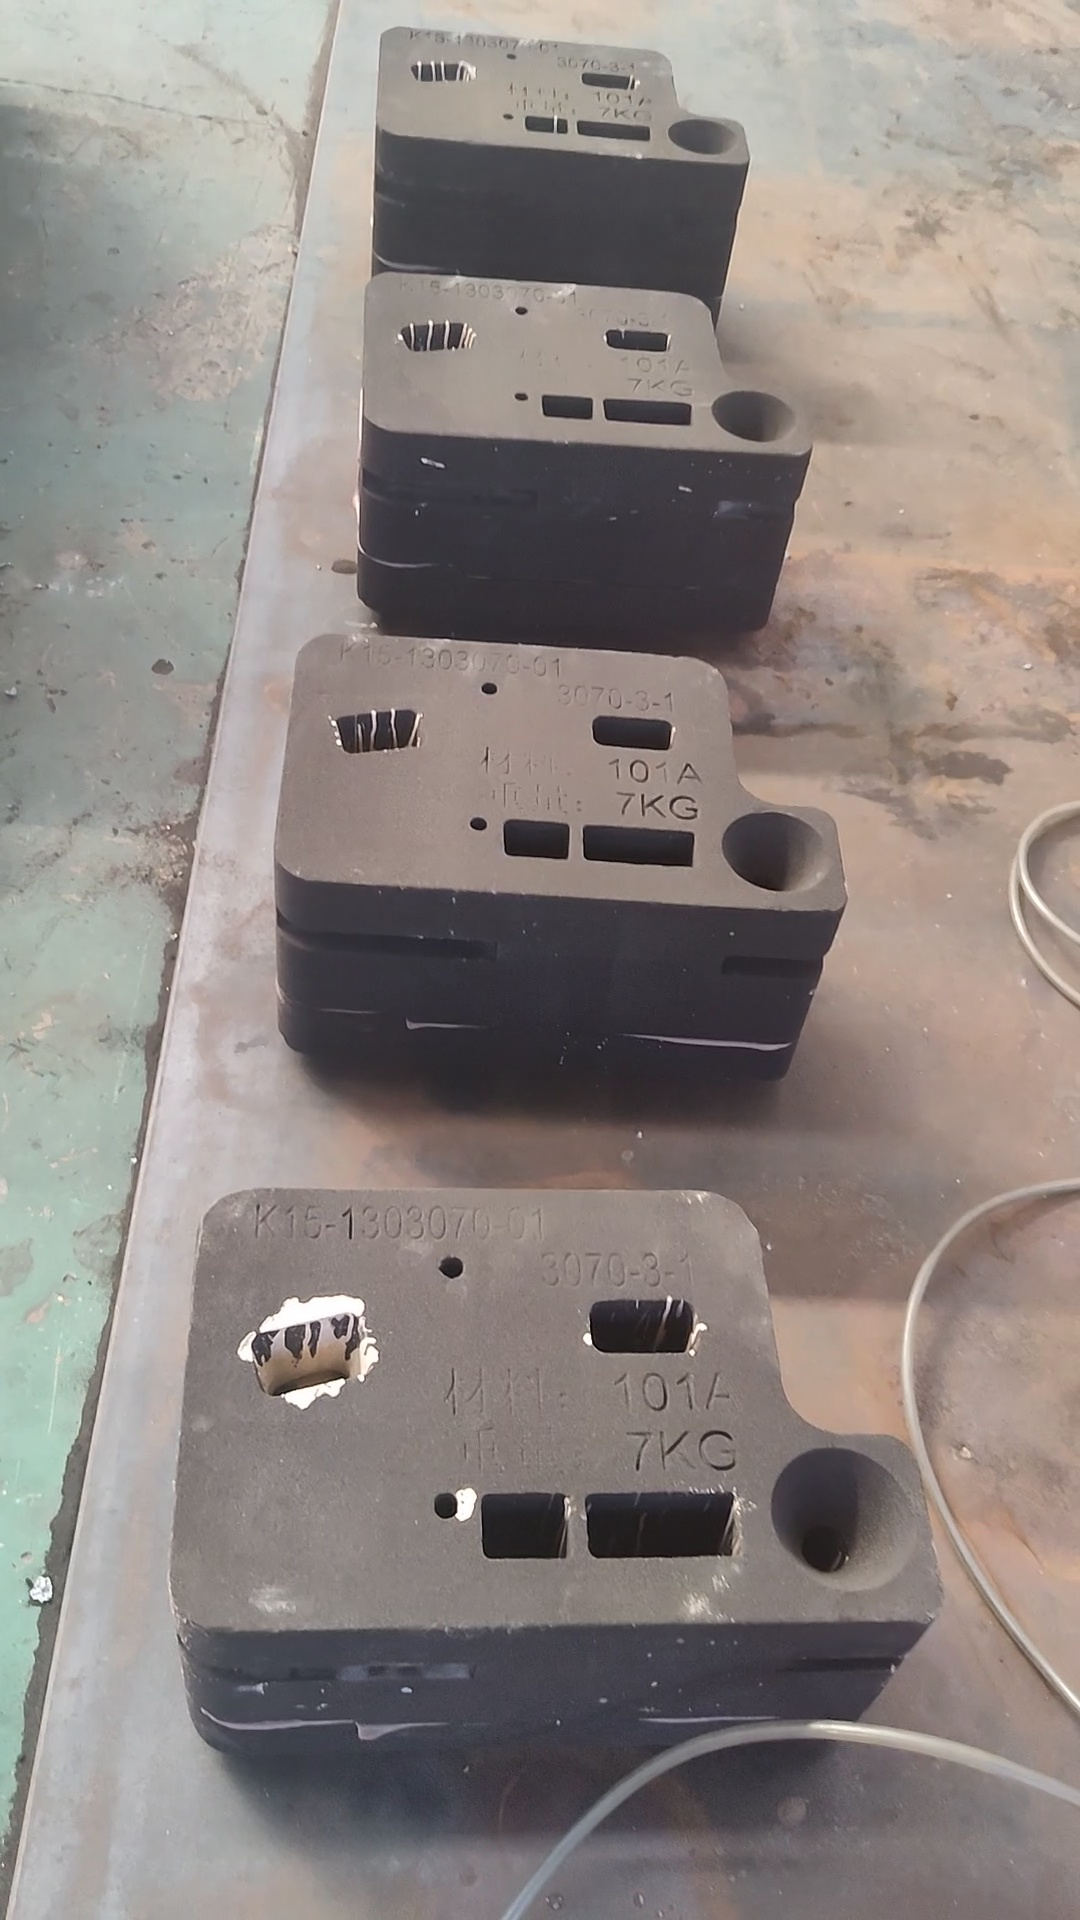pouring hole: (770, 1447, 915, 1590), (721, 810, 827, 895), (712, 390, 795, 444), (667, 117, 738, 154)
